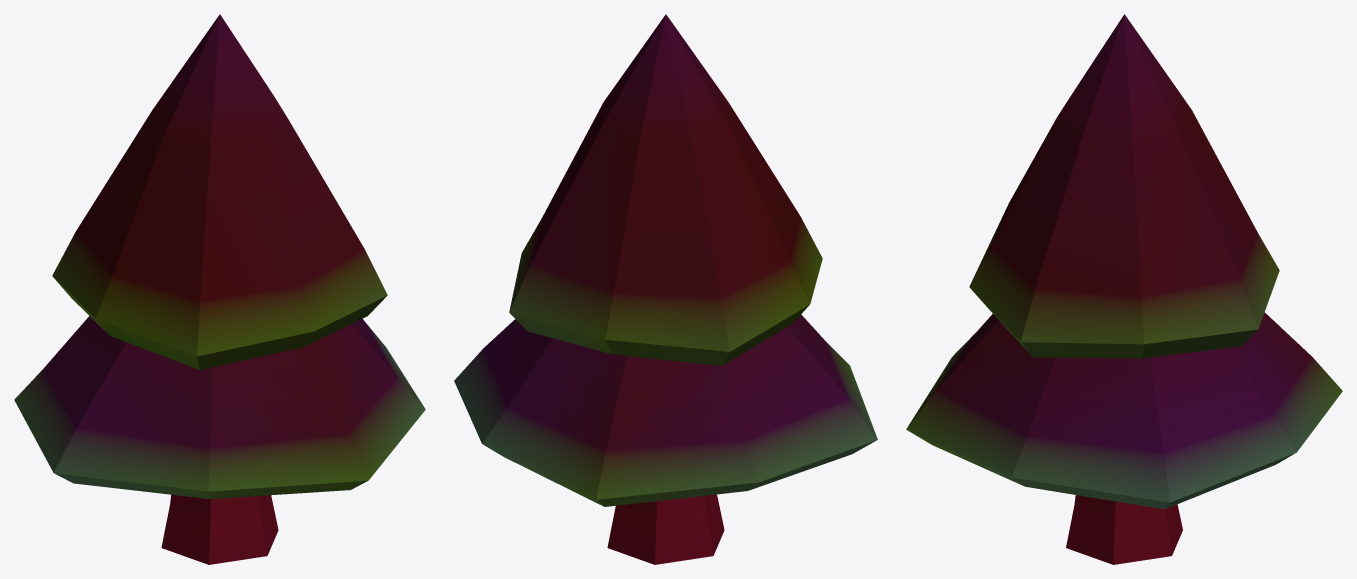
File: Tree_Pine_Small_01.fbx
The picture shows the model from 3 angles, left to right: view 1: azimuth 30°, elevation 25°; view 2: azimuth 150°, elevation 25°; view 3: azimuth 270°, elevation 25°; orthographic projection.
Visible parts, largest first — view 1: Tree_Pine_Small_01; view 2: Tree_Pine_Small_01; view 3: Tree_Pine_Small_01.
Boxes of the visible parts, x1,y1,x2,y2 form: Tree_Pine_Small_01: (14, 14, 425, 564); Tree_Pine_Small_01: (454, 14, 877, 564); Tree_Pine_Small_01: (906, 14, 1342, 564).
Size of the model in its own units: 1.77 by 2.35 by 1.77.
